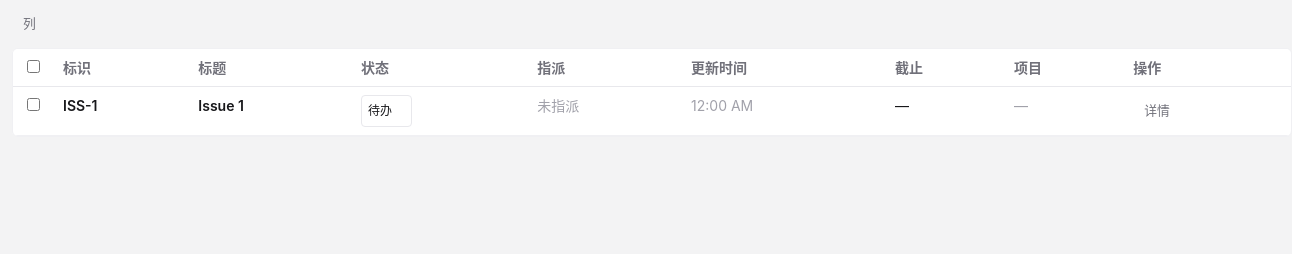
Test case: IssueListView 列选择（列表表格二阶） › 恢复：重新勾选隐藏列后列回来，localStorage 同步清空
Step 1. Click the button with test id "issue-list-column-picker" → [29, 24], box 12,8 -> 47,40
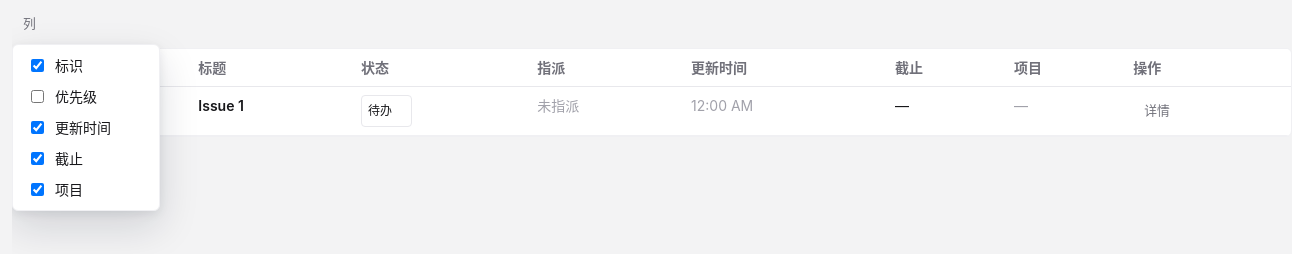
Step 2. Click the checkbox with test id "issue-list-column-opt-priority" → [38, 96], box 31,90 -> 44,103
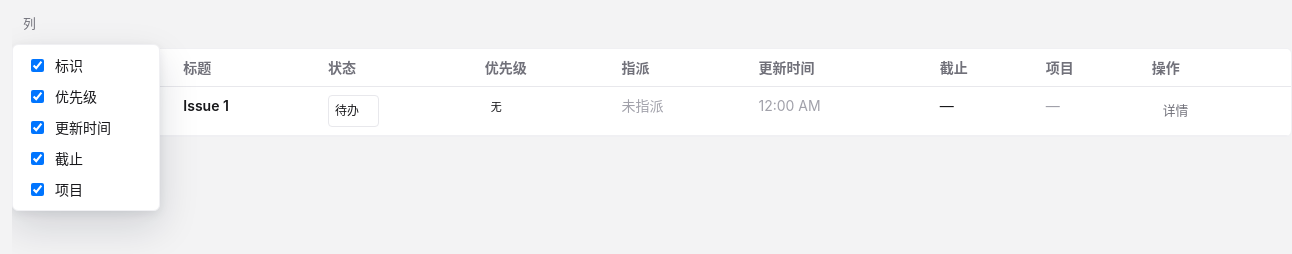
Result: the column heading with test id "issue-list-sort-header-priority" is shown at 475,49 -> 612,86
